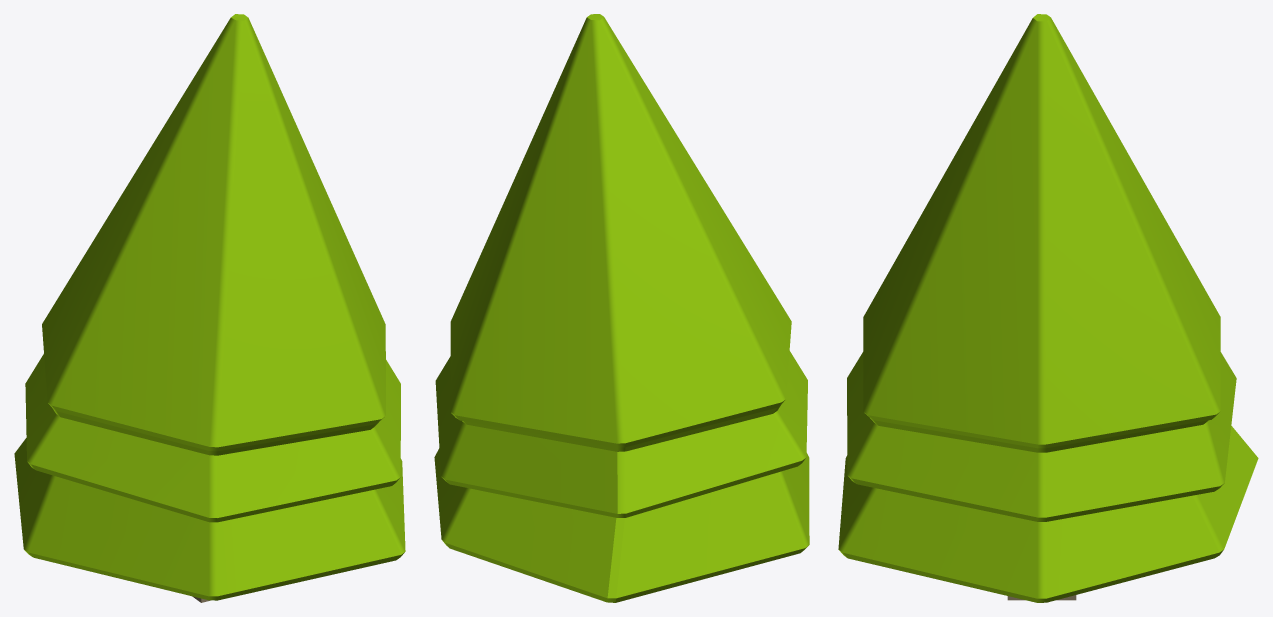
Rendered from pine_skewed_5_bevel.fbx.
3 renders of one model, left to right at view 1: azimuth 30°, elevation 25°; view 2: azimuth 150°, elevation 25°; view 3: azimuth 270°, elevation 25°, orthographic. The views are drawn at different scales.
Visible parts, largest first — view 1: pine_skewed_5_bevel; view 2: pine_skewed_5_bevel; view 3: pine_skewed_5_bevel.
Boxes of the visible parts, x1=… form: pine_skewed_5_bevel: x1=14, y1=14, x2=405, y2=602; pine_skewed_5_bevel: x1=434, y1=14, x2=809, y2=602; pine_skewed_5_bevel: x1=838, y1=14, x2=1258, y2=602.
Size of the model in its own units: 180 by 258 by 169.
